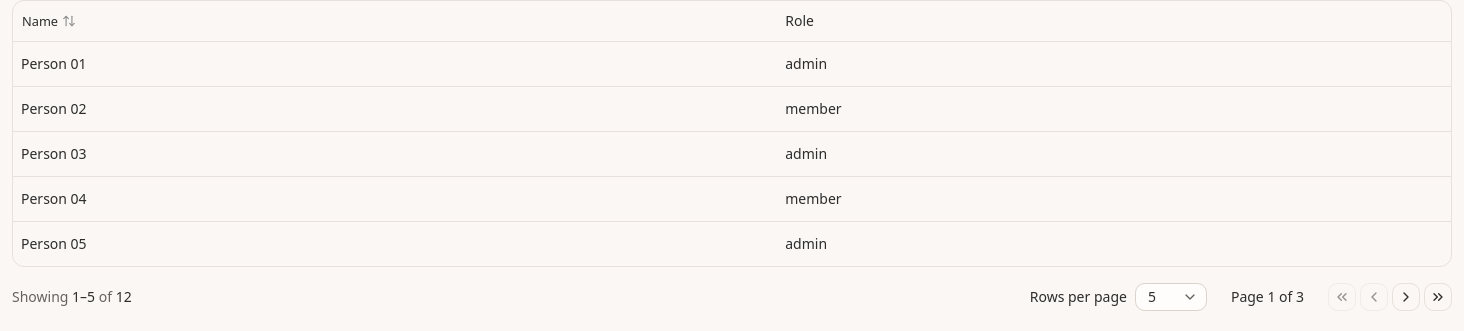
Test: DataTable › paginates rows
The width and height of the screenshot is (1464, 331).
Expected: the text "Page 1 of 3" is shown, top-left (1231, 286), bottom-right (1304, 306)
Click the button named "Next page": point(1406, 296) top-left (1392, 282), bottom-right (1420, 310)
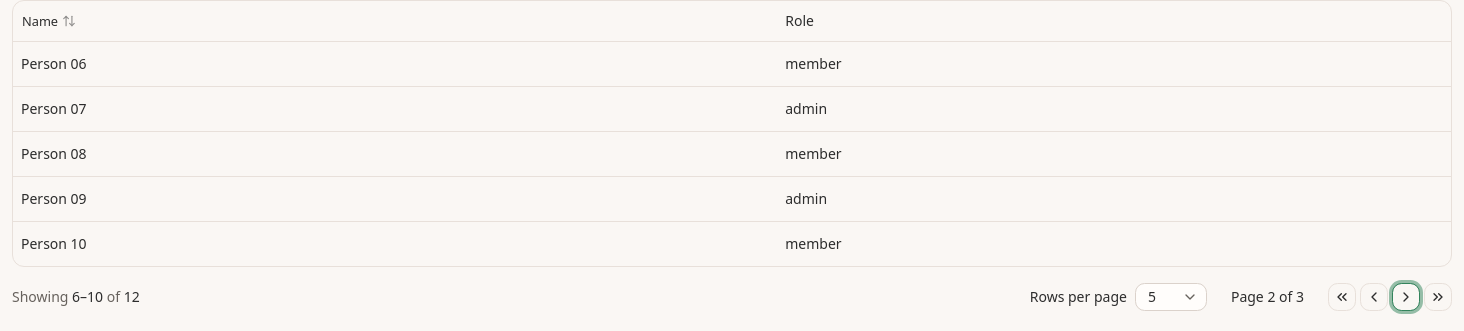
Expected: the button named "Previous page" is enabled, top-left (1360, 282), bottom-right (1388, 310)
Expected: the text "Page 2 of 3" is shown, top-left (1231, 286), bottom-right (1304, 306)
Expected: the cell "Person 06" is shown, top-left (13, 42), bottom-right (777, 86)
